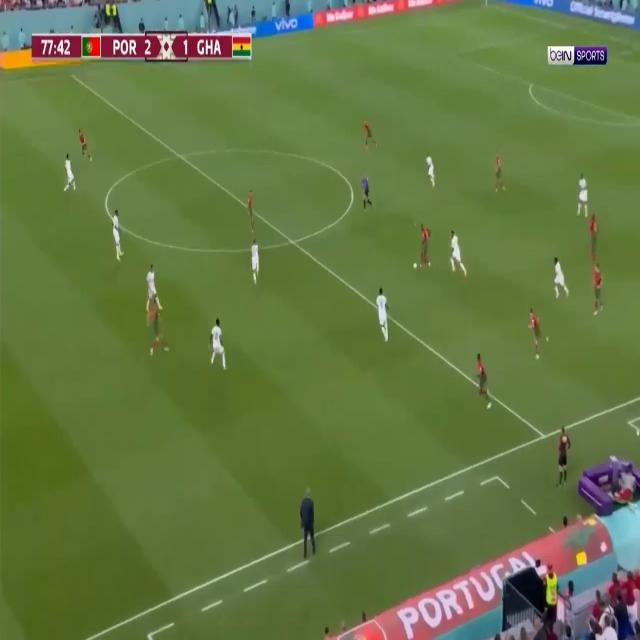ball: (413, 262, 418, 270)
team1: (474, 352, 493, 412), (527, 311, 549, 362), (148, 304, 166, 354), (591, 267, 606, 318), (586, 214, 600, 267), (419, 217, 432, 271), (76, 129, 94, 167), (360, 115, 377, 151), (494, 150, 505, 194), (246, 189, 258, 229)
team2: (448, 225, 469, 285), (376, 280, 392, 350), (210, 314, 228, 371), (144, 261, 164, 311), (550, 254, 570, 303), (112, 206, 126, 266), (423, 151, 438, 193), (576, 170, 589, 217), (249, 238, 261, 285), (64, 150, 76, 196)
